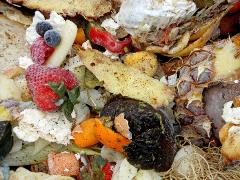organic: (79, 40, 180, 108), (115, 3, 200, 35), (22, 62, 78, 110), (71, 117, 133, 151), (221, 96, 240, 158), (48, 153, 88, 180), (30, 32, 50, 63), (116, 109, 136, 137), (45, 30, 63, 48), (38, 21, 50, 31)
